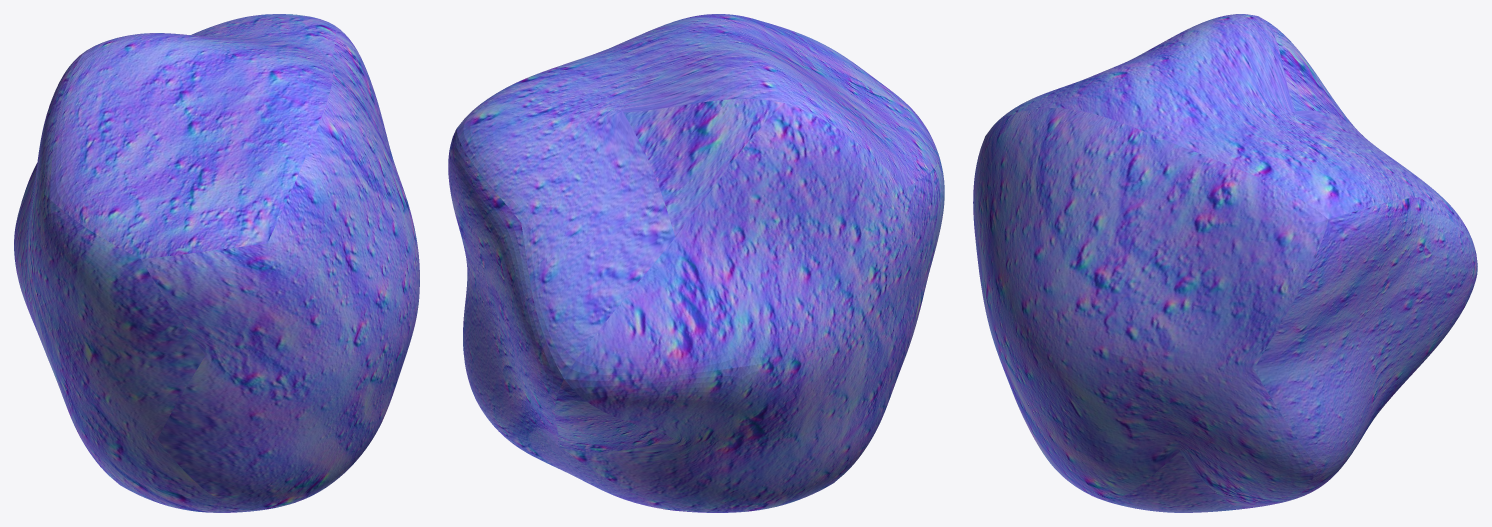
The model's file is bigasteroid14_LOD0.fbx.
The picture shows the model from 3 angles, left to right: view 1: azimuth 30°, elevation 25°; view 2: azimuth 150°, elevation 25°; view 3: azimuth 270°, elevation 25°; orthographic projection. The views are drawn at different scales.
Parts seen in each view (by area): view 1: Icosphere; view 2: Icosphere; view 3: Icosphere.
Part boxes in pixels (x1,y1,x2,y2): Icosphere: (14,14,419,512); Icosphere: (448,14,944,512); Icosphere: (973,14,1477,512).
Bounding box in the file's own units: 211 × 227 × 244.
